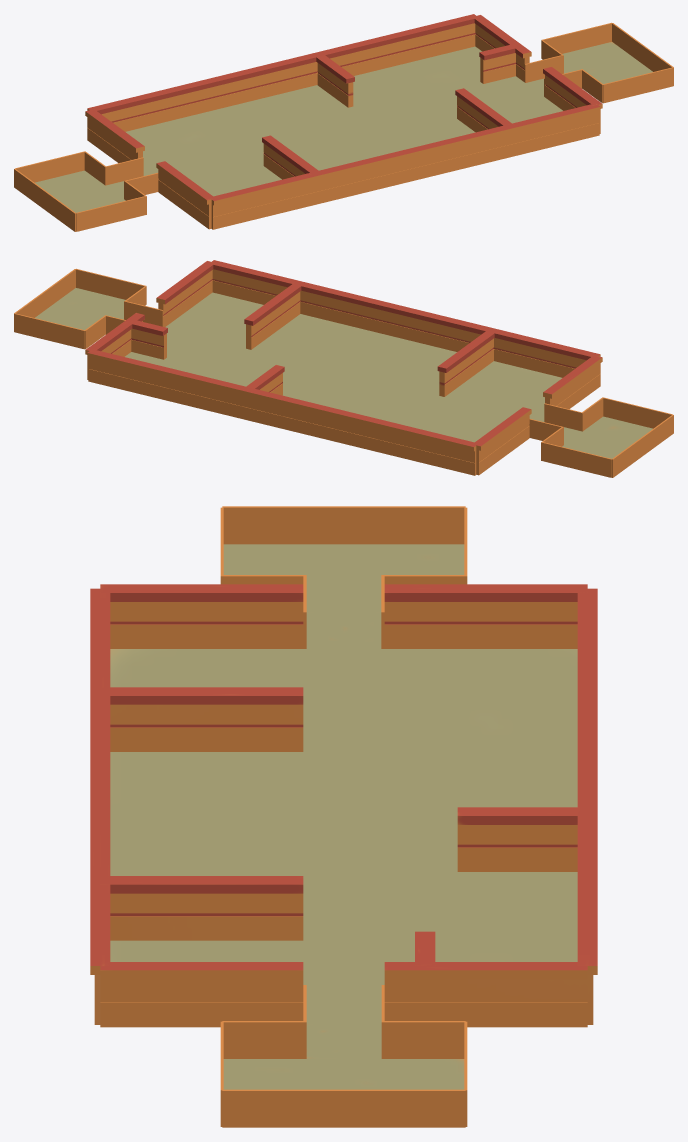
File: Parque_prefab.fbx
3 views of the same model, one above another, from view 1: azimuth 30°, elevation 25°; view 2: azimuth 150°, elevation 25°; view 3: azimuth 270°, elevation 25° (orthographic). The views are drawn at different scales.
Parts seen in each view (by area): view 1: Suelo.001, Pared4.001, Pared4.002, Suelo.002, Suelo, Pared4.005, Pared4.006, Pared4.004, Pared1, Pared1.004, Pared4.010, Pared4.007 (+12 smaller); view 2: Suelo.001, Pared4.002, Pared4.001, Suelo.002, Suelo, Pared4.010, Pared4.007, Pared4.006, Pared4.004, Pared4.005, Pared1.005, Pared1.006 (+12 smaller); view 3: Suelo.001, Pared4.004, Pared4.003, Pared4.005, Pared4.006, Pared4.007, Pared4.010, Suelo, Pared2.006, Pared2.001, Pared4.002, Pared4.001 (+6 smaller).
Boxes of the visible parts, x1,y1,x2,y2 form: Suelo.001: [126, 46, 562, 196]; Pared4.001: [211, 103, 600, 229]; Pared4.002: [87, 14, 478, 131]; Suelo.002: [562, 42, 652, 84]; Suelo: [35, 170, 125, 212]; Pared4.005: [156, 161, 215, 229]; Pared4.006: [85, 109, 144, 163]; Pared4.004: [543, 67, 602, 133]; Pared1: [603, 67, 673, 103]; Pared1.004: [76, 196, 146, 231]; Pared4.010: [262, 135, 320, 179]; Pared4.007: [455, 88, 514, 132]; Suelo.001: [125, 292, 561, 442]; Pared4.002: [87, 349, 478, 475]; Pared4.001: [209, 260, 600, 377]; Suelo.002: [35, 288, 125, 330]; Suelo: [562, 416, 652, 458]; Pared4.010: [437, 329, 496, 396]; Pared4.007: [244, 282, 303, 349]; Pared4.006: [474, 407, 531, 475]; Pared4.004: [156, 261, 214, 327]; Pared4.005: [543, 355, 602, 409]; Pared1.005: [14, 313, 84, 349]; Pared1.006: [541, 442, 611, 477]; Suelo.001: [110, 646, 577, 1023]; Pared4.004: [100, 962, 303, 1027]; Pared4.003: [384, 962, 587, 1027]; Pared4.005: [100, 584, 303, 648]; Pared4.006: [384, 584, 587, 648]; Pared4.007: [100, 876, 303, 940]; Pared4.010: [100, 687, 303, 751]; Suelo: [223, 544, 464, 612]; Pared2.006: [222, 1089, 465, 1127]; Pared2.001: [222, 506, 465, 544]; Pared4.002: [577, 588, 597, 1024]; Pared4.001: [90, 588, 110, 1024].
Size of the model in its own units: 17040 by 800 by 6248.
18 materials, 18 textured.
